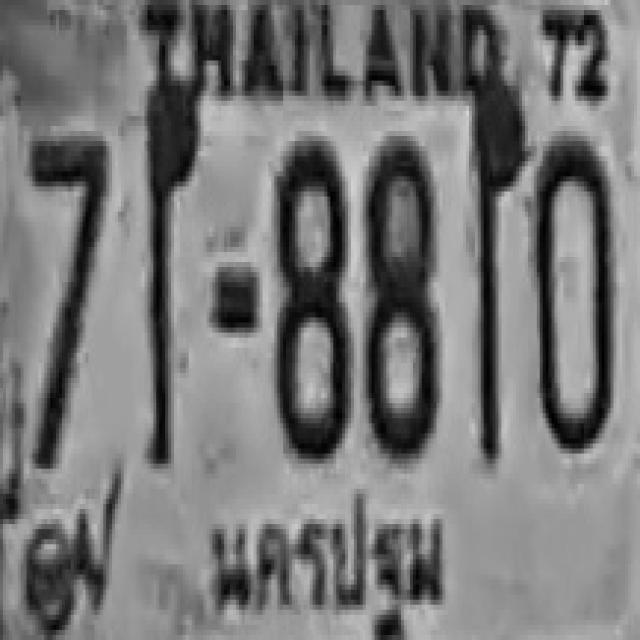0: (531, 131, 613, 449)
1: (468, 88, 524, 416), (143, 76, 199, 403), (466, 86, 525, 388)
7: (27, 131, 106, 464)
8: (271, 136, 348, 459), (364, 134, 438, 456)
NakhonPathom: (200, 483, 446, 640)
